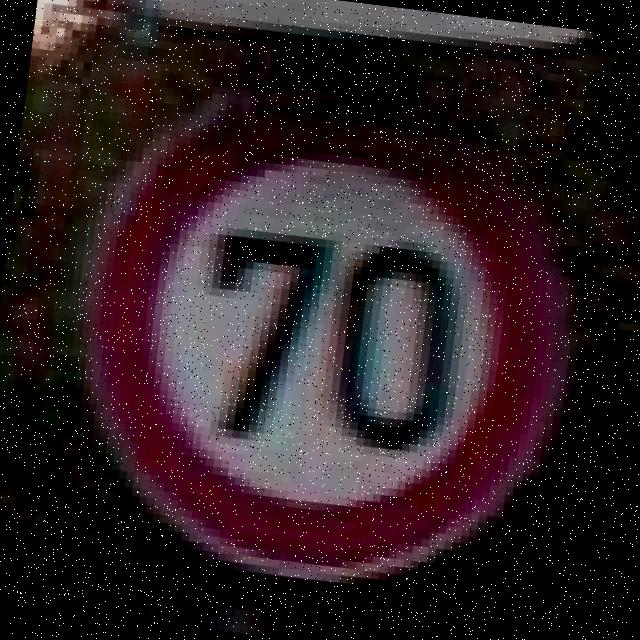Ograniczenie predkosci do 70: (23, 31, 616, 617)
